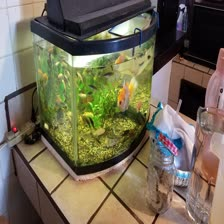Cuezo: (111, 79, 137, 114)
